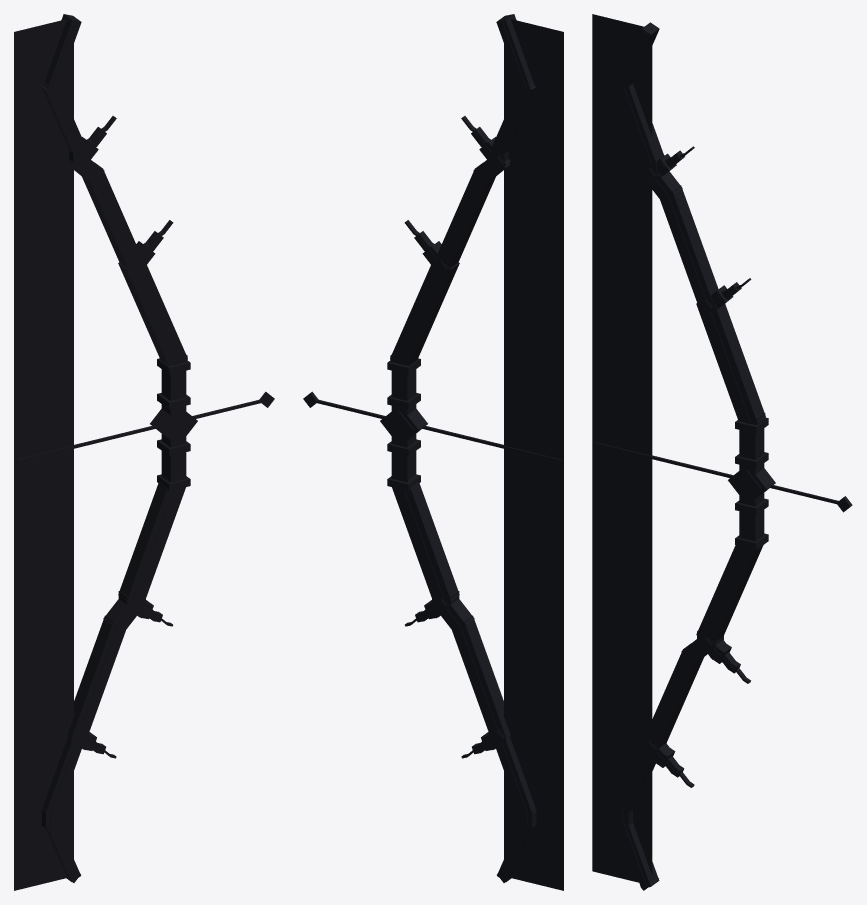
The model's file is requiem_recurve_pulling_1_smooth.obj.
3 views of the same model, side by side, from view 1: azimuth 30°, elevation 25°; view 2: azimuth 150°, elevation 25°; view 3: azimuth 330°, elevation 25° (orthographic).
Parts seen in each view (by area): view 1: requiem_recurve_pulling_1; view 2: requiem_recurve_pulling_1; view 3: requiem_recurve_pulling_1.
Part boxes in pixels (bbox=[...]): requiem_recurve_pulling_1: bbox=[14, 14, 274, 890]; requiem_recurve_pulling_1: bbox=[303, 14, 563, 890]; requiem_recurve_pulling_1: bbox=[592, 14, 852, 890].
Bounding box in the file's own units: 0.8756 × 2.78 × 0.0717.
